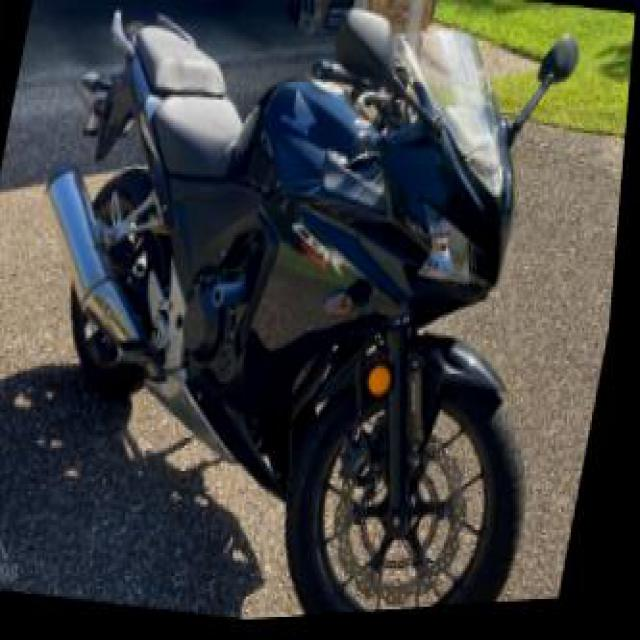CBR500R: (0, 0, 625, 635)
